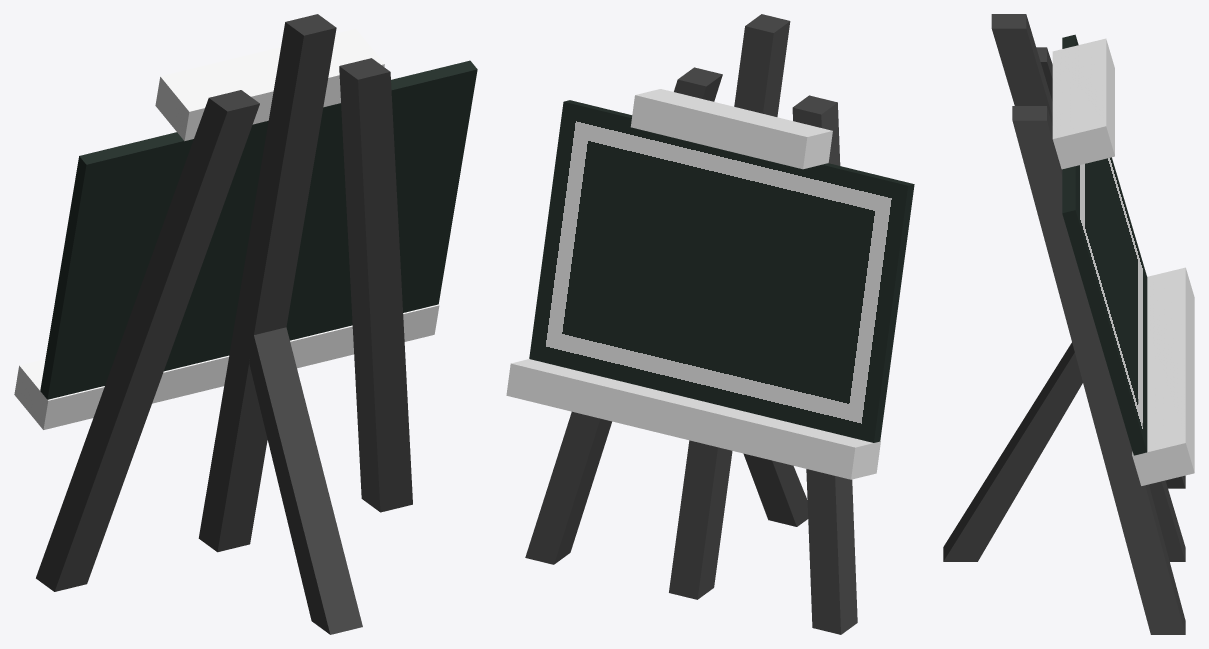
Rendered from chalkboard.gltf.
3 renders of one model, left to right at view 1: azimuth 30°, elevation 25°; view 2: azimuth 150°, elevation 25°; view 3: azimuth 270°, elevation 25°, orthographic. The views are drawn at different scales.
Visible parts, largest first — view 1: mesh (×7); view 2: mesh (×7); view 3: mesh (×7).
Part boxes in pixels (x1,y1,x2,y2): mesh (×7): [14, 14, 477, 634]; mesh (×7): [506, 14, 914, 634]; mesh (×7): [943, 14, 1194, 634].
Size of the model in its own units: 0.375 by 0.5312 by 0.2271.
3 materials, 3 textured.
